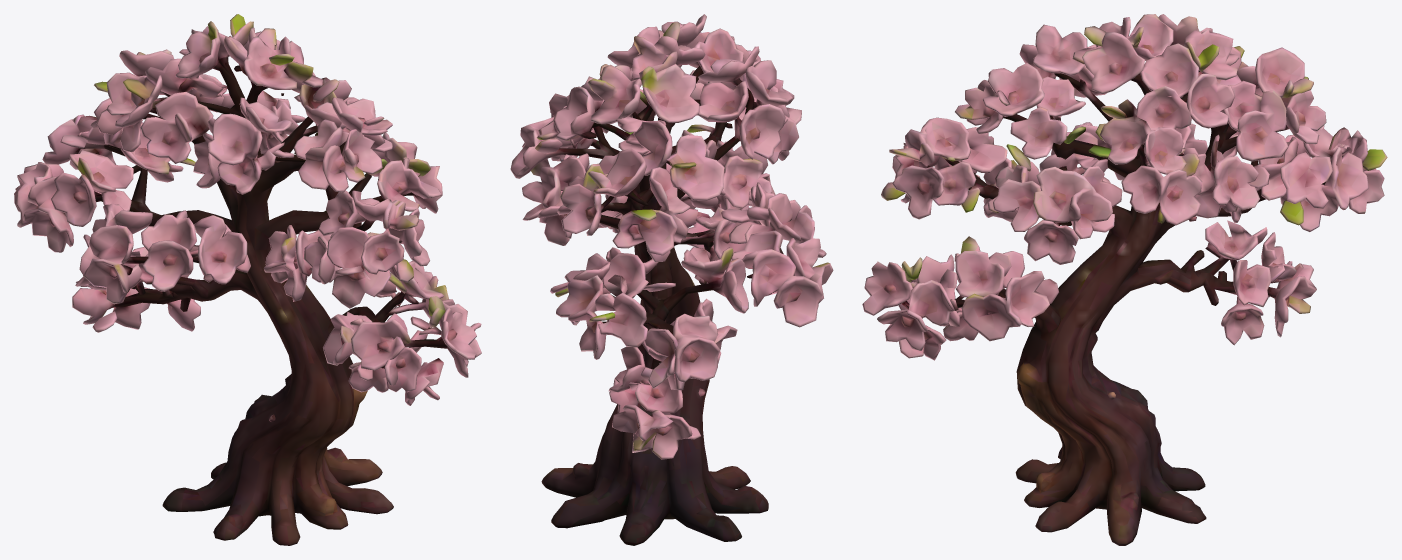
File: peach_tree.glb
3 views of the same model, side by side, from view 1: azimuth 30°, elevation 25°; view 2: azimuth 150°, elevation 25°; view 3: azimuth 270°, elevation 25° (orthographic). The views are drawn at different scales.
Parts seen in each view (by area): view 1: tripo_node_44a27530-e10e-4875-a94c-26aae18c265b; view 2: tripo_node_44a27530-e10e-4875-a94c-26aae18c265b; view 3: tripo_node_44a27530-e10e-4875-a94c-26aae18c265b.
Boxes of the visible parts, box(x1,y1,x2,y2) form: tripo_node_44a27530-e10e-4875-a94c-26aae18c265b: box(14, 14, 481, 545); tripo_node_44a27530-e10e-4875-a94c-26aae18c265b: box(510, 14, 833, 545); tripo_node_44a27530-e10e-4875-a94c-26aae18c265b: box(862, 14, 1387, 545).
Bounding box in the file's own units: 0.6751 × 1 × 0.9922.
1 material, 1 textured.
